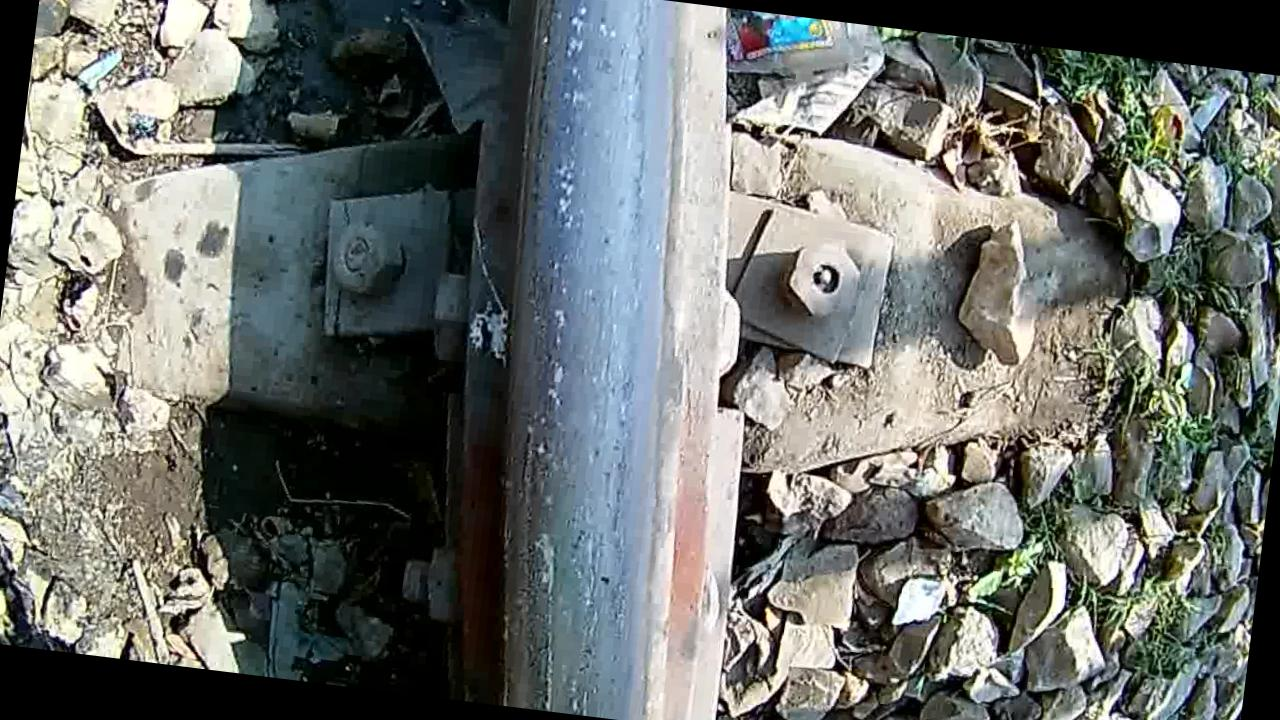clip_missing: (448, 0, 746, 720)
